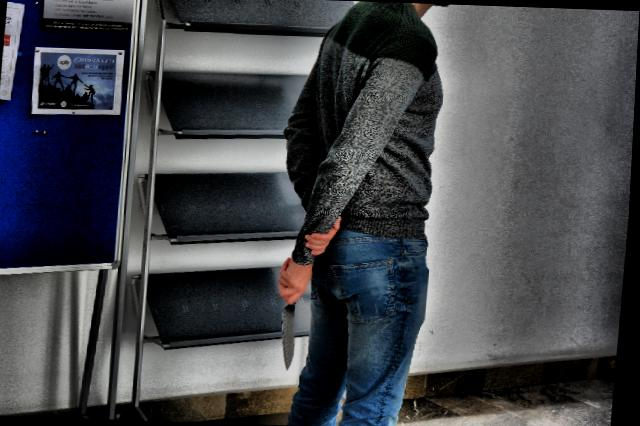knife: (278, 293, 305, 374)
